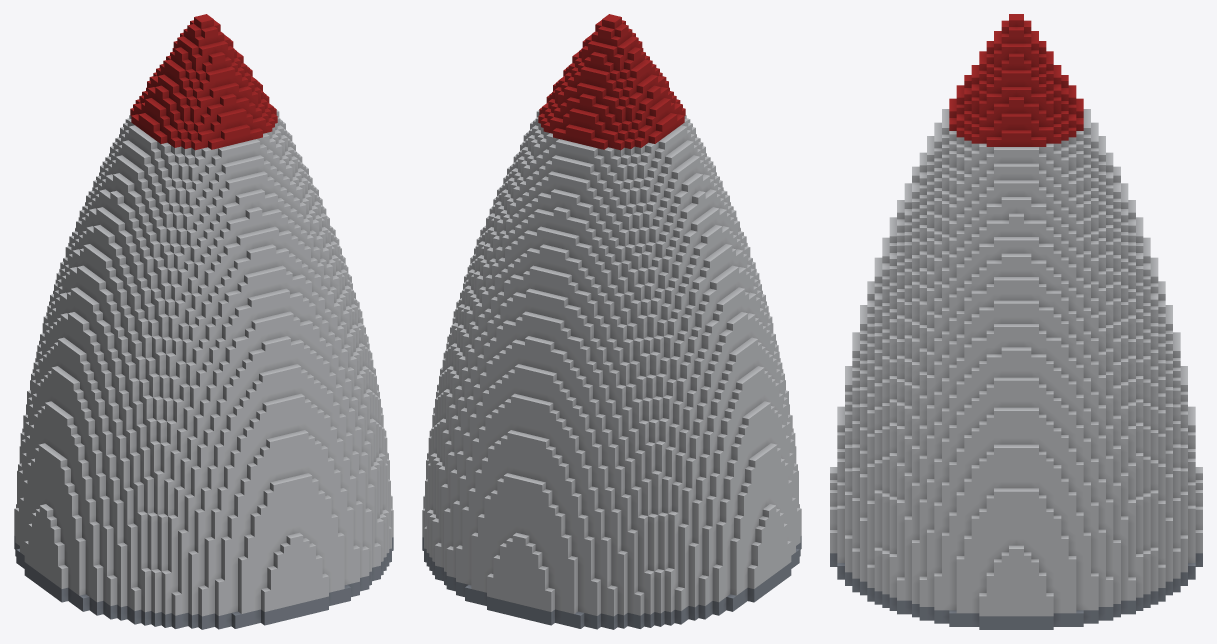
File: nose_cone_m.glb
3 renders of one model, left to right at view 1: azimuth 30°, elevation 25°; view 2: azimuth 150°, elevation 25°; view 3: azimuth 270°, elevation 25°, orthographic.
Parts seen in each view (by area): view 1: nose_cone_m; view 2: nose_cone_m; view 3: nose_cone_m.
Part boxes in pixels (<box>): nose_cone_m: <box>14,14,393,629</box>; nose_cone_m: <box>422,14,801,629</box>; nose_cone_m: <box>830,14,1202,629</box>.
Bounding box in the file's own units: 2.5 × 3.95 × 2.5.
